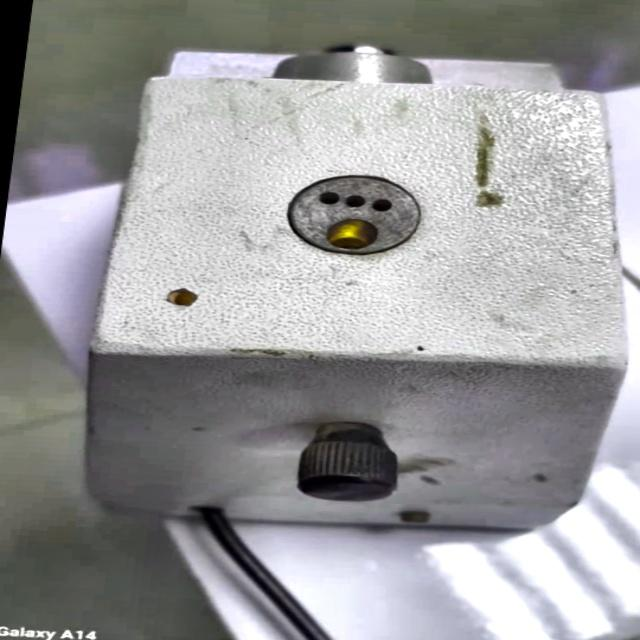Melting Point Apparatus: (58, 26, 640, 558)
